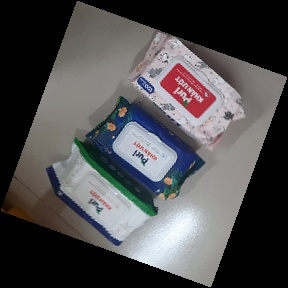Puri Trang: (44, 135, 159, 249)
Puri Xanh: (83, 96, 209, 204)
Puri hong: (128, 31, 248, 147)
